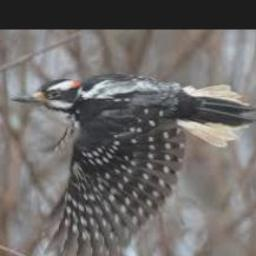Woodpecker: (12, 72, 256, 256)
